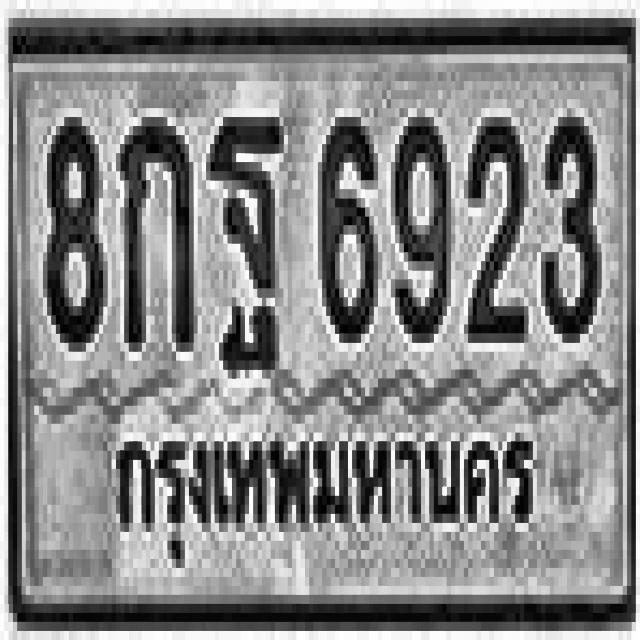license-plate: (12, 50, 632, 620)
